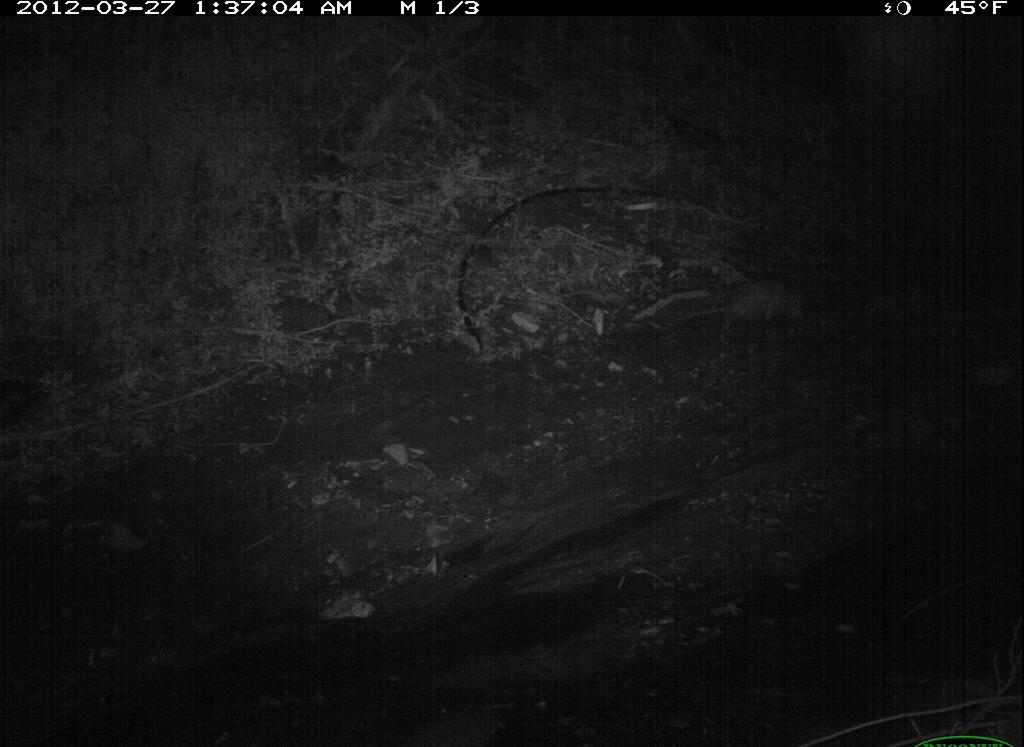opossum: (701, 259, 829, 345)
